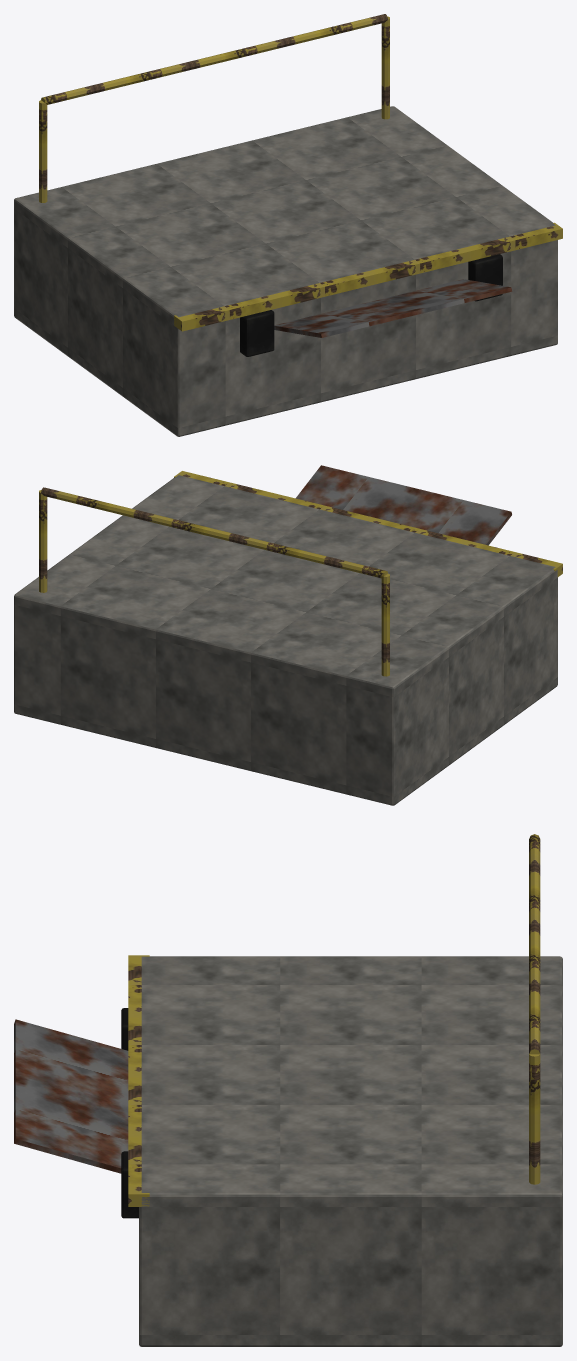
Rendered from HM18_LoadingDock.glb.
The picture shows the model from 3 angles, top to bottom: view 1: azimuth 30°, elevation 25°; view 2: azimuth 150°, elevation 25°; view 3: azimuth 270°, elevation 25°; orthographic projection. The views are drawn at different scales.
Visible parts, largest first — view 1: HM18_LoadingDock; view 2: HM18_LoadingDock; view 3: HM18_LoadingDock.
Boxes of the visible parts, left/top/right/bottom form: HM18_LoadingDock: left=14, top=14, right=562, bottom=436; HM18_LoadingDock: left=14, top=465, right=562, bottom=805; HM18_LoadingDock: left=14, top=834, right=562, bottom=1346.
Size of the model in its own units: 4 by 2.24 by 3.88.
4 materials, 4 textured.
